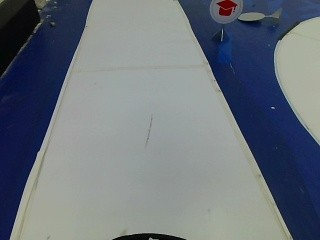school: (208, 0, 242, 25)
